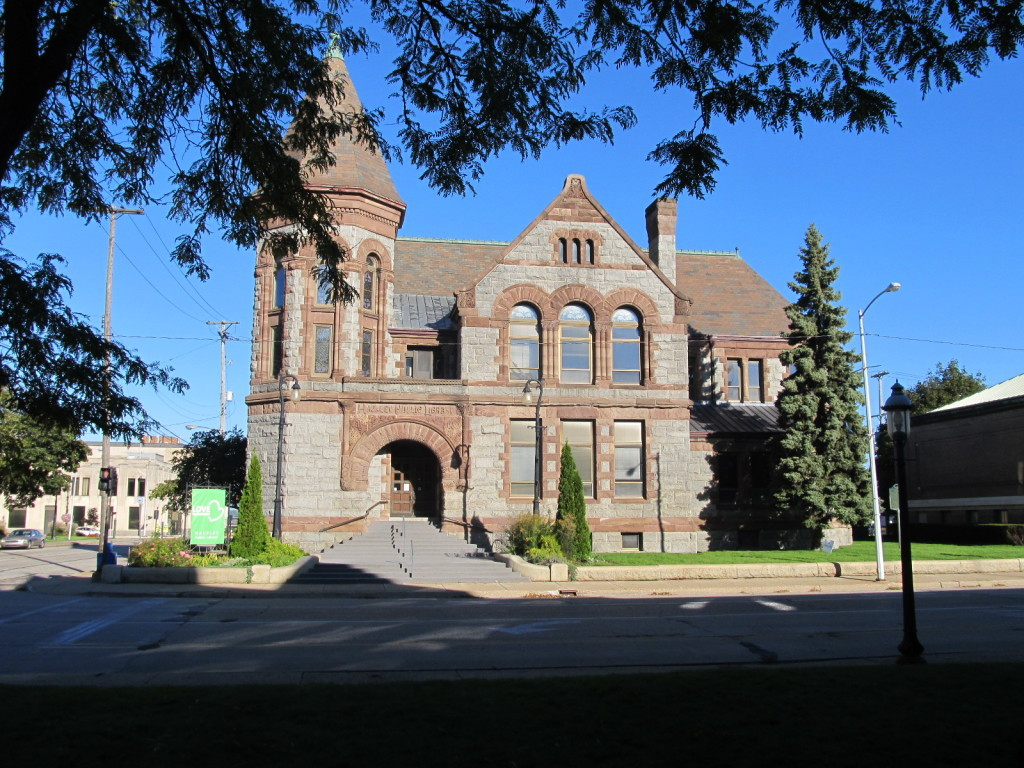Tree: (0, 0, 1022, 441), (766, 218, 885, 540), (0, 383, 92, 511), (151, 422, 252, 503), (901, 360, 984, 408)
